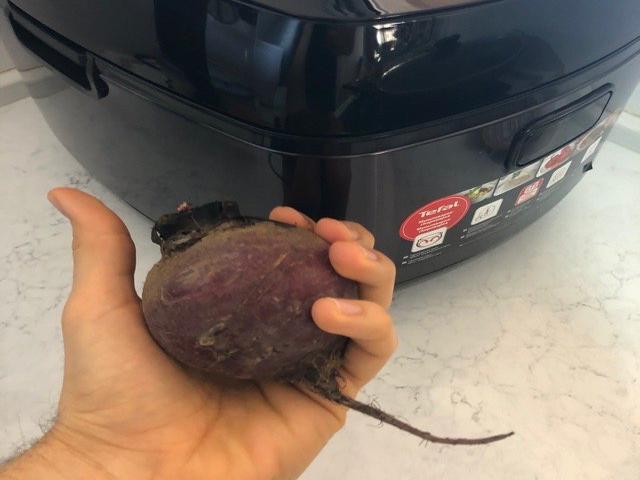beet: (142, 201, 515, 446)
